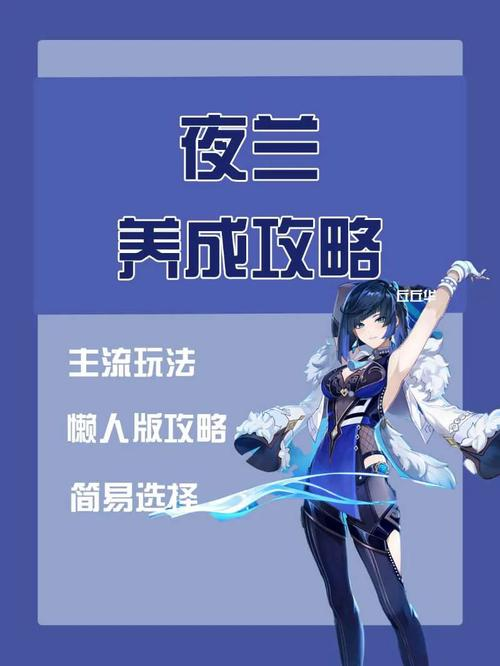夜兰: (293, 258, 500, 664)
